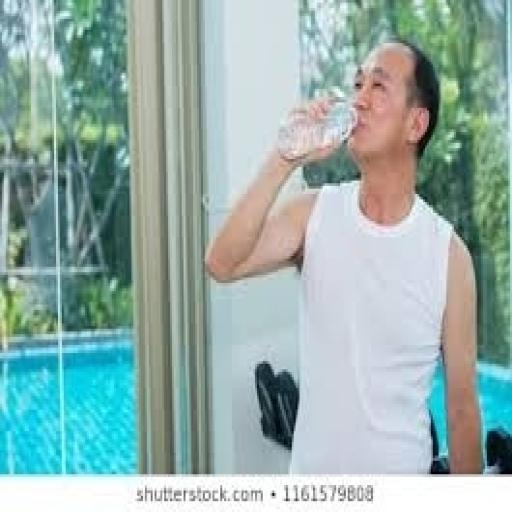drinking: (276, 0, 468, 162)
